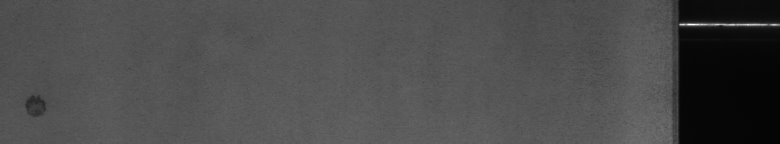fi: (20, 88, 48, 124)
